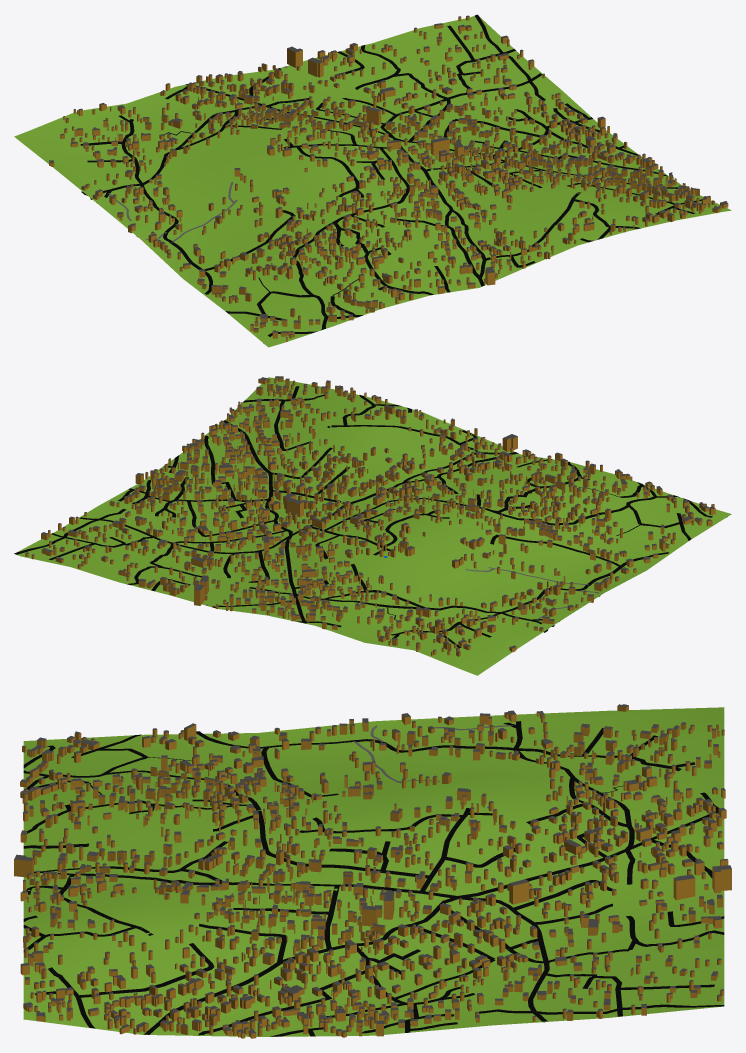
Rendered from tile_08_06.glb.
The picture shows the model from 3 angles, top to bottom: view 1: azimuth 30°, elevation 25°; view 2: azimuth 150°, elevation 25°; view 3: azimuth 270°, elevation 25°; orthographic projection. The views are drawn at different scales.
Visible parts, largest first — view 1: Terrain_08_06, Ub_small.osm_buildings_08_06, Ub_small.osm_roads_residential_08_06; view 2: Terrain_08_06, Ub_small.osm_buildings_08_06, Ub_small.osm_roads_residential_08_06; view 3: Terrain_08_06, Ub_small.osm_buildings_08_06, Ub_small.osm_roads_residential_08_06.
Part boxes in pixels (x1=…): Terrain_08_06: x1=14, y1=16, x2=731, y2=347; Ub_small.osm_buildings_08_06: x1=49, y1=15, x2=728, y2=341; Ub_small.osm_roads_residential_08_06: x1=80, y1=14, x2=702, y2=343; Terrain_08_06: x1=15, y1=377, x2=731, y2=675; Ub_small.osm_buildings_08_06: x1=25, y1=376, x2=715, y2=656; Ub_small.osm_roads_residential_08_06: x1=14, y1=386, x2=726, y2=647; Terrain_08_06: x1=23, y1=707, x2=724, y2=1036; Ub_small.osm_buildings_08_06: x1=14, y1=704, x2=731, y2=1038; Ub_small.osm_roads_residential_08_06: x1=23, y1=721, x2=724, y2=1036.
Bounding box in the file's own units: 988 × 90.09 × 953.
